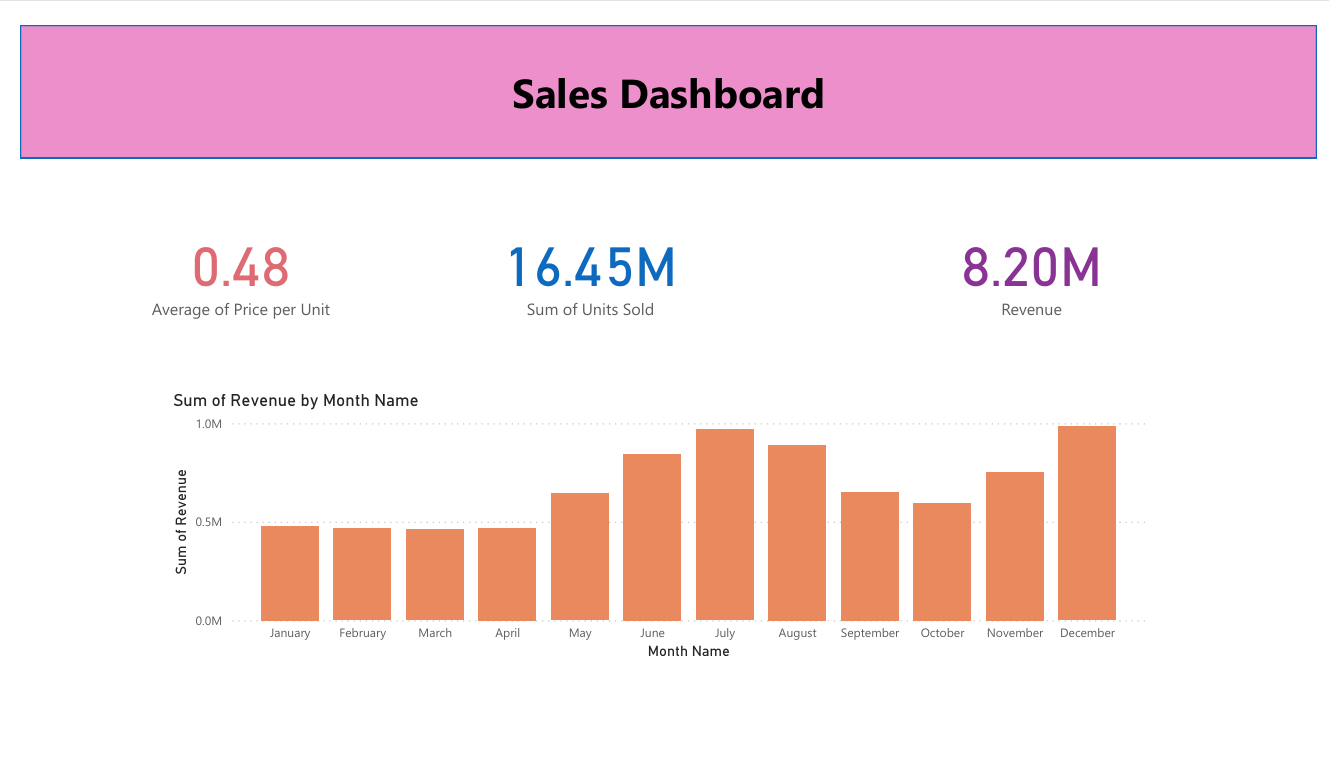

This screenshot's page, from the dashboard's own definition file:
{"tool":"powerbi","page":{"name":"Page 1","canvas":[1280,720],"ordinal":0},"visuals":[{"type":"shape","box":[0,0,1280.4,130.8],"z":0},{"type":"card","fields":{"Values":["Sum(Data.Revenue)"]},"box":[780.5,156.6,435.9,168.9],"z":1},{"type":"card","fields":{"Values":["Sum(Data.Units Sold)"]},"box":[344.6,156.6,435.9,168.9],"z":2},{"type":"card","fields":{"Values":["Avg(Data.Price per Unit)"]},"box":[0,156.6,435.9,168.9],"z":3},{"type":"columnChart","fields":{"Y":["Sum(Data.Revenue)"],"Category":["Data.Month Name"]},"box":[145.7,359.6,969.8,271.1],"z":4}]}

Visuals, with their boxes in screenshot pixels (x1, y1, x2, y2), scaled from the page's 1280x720 canvas onto the 1329x768 screenshot:
shape: [left=0, top=0, right=1328, bottom=140]
card - Sum(Data.Revenue): [left=810, top=167, right=1263, bottom=347]
card - Sum(Data.Units Sold): [left=358, top=167, right=810, bottom=347]
card - Avg(Data.Price per Unit): [left=0, top=167, right=453, bottom=347]
columnChart - Sum(Data.Revenue) x Data.Month Name: [left=151, top=384, right=1158, bottom=673]
